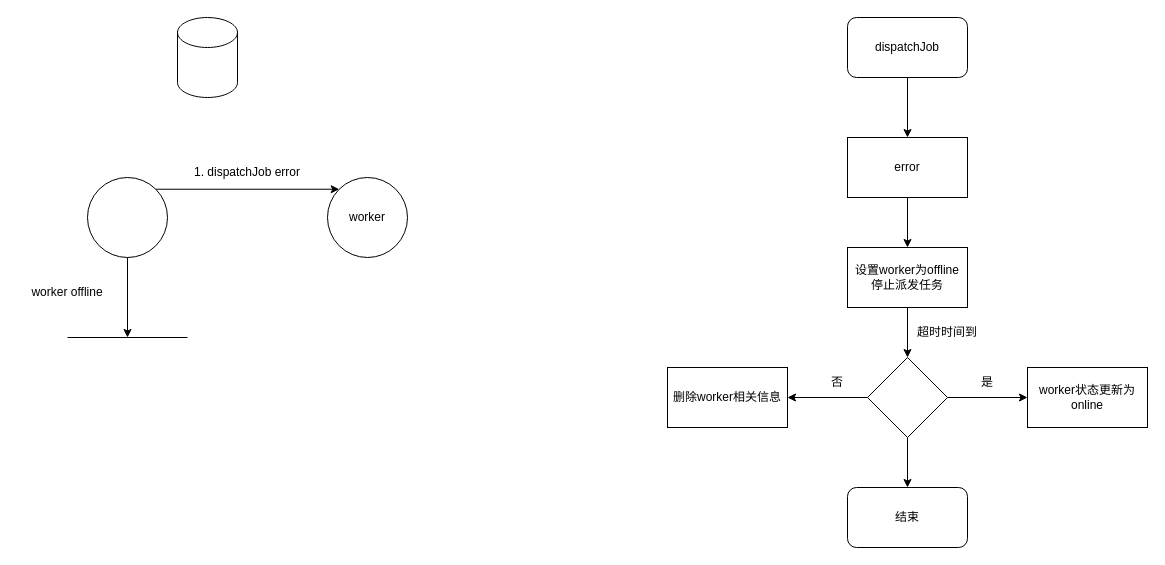
Some shapes in this 1165 by 565 pixel diagram are drawn without their labels. Each missing label, with the box of its shape:
etcd: (176, 16, 238, 98)
schedluer: (86, 176, 168, 258)
worker心跳包是否更新: (866, 356, 948, 438)
